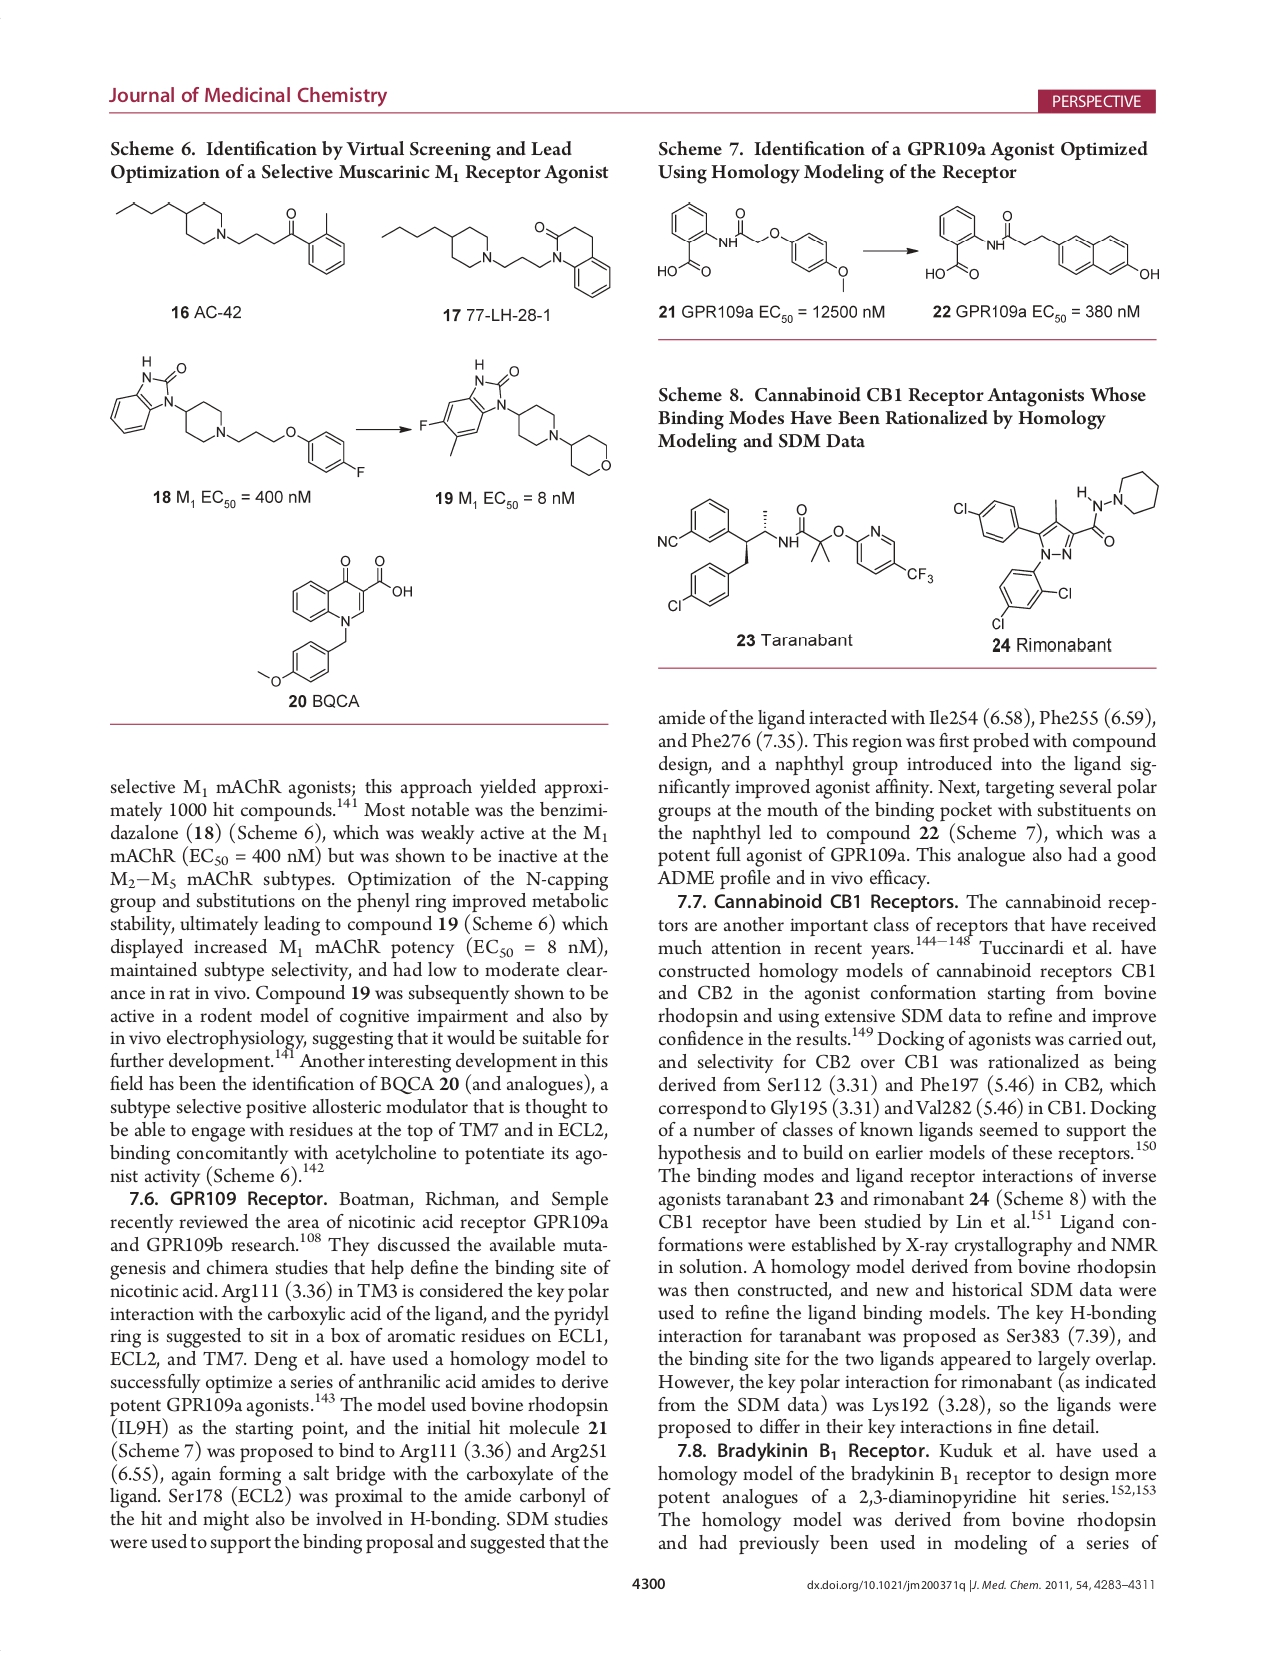exist_molecular: (952, 465, 1162, 634), (108, 351, 366, 481), (653, 495, 934, 614), (414, 352, 613, 481), (253, 552, 414, 690), (378, 213, 614, 302), (923, 201, 1161, 286), (109, 194, 348, 278), (656, 199, 852, 295)
